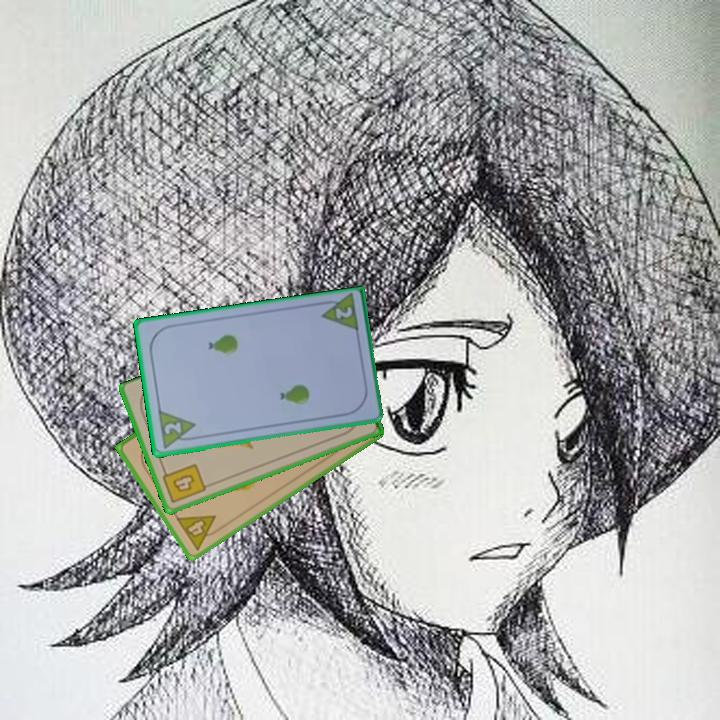2p: (154, 407, 200, 452), (331, 303, 356, 322)
4b: (159, 460, 209, 506)
4p: (172, 511, 226, 553)
